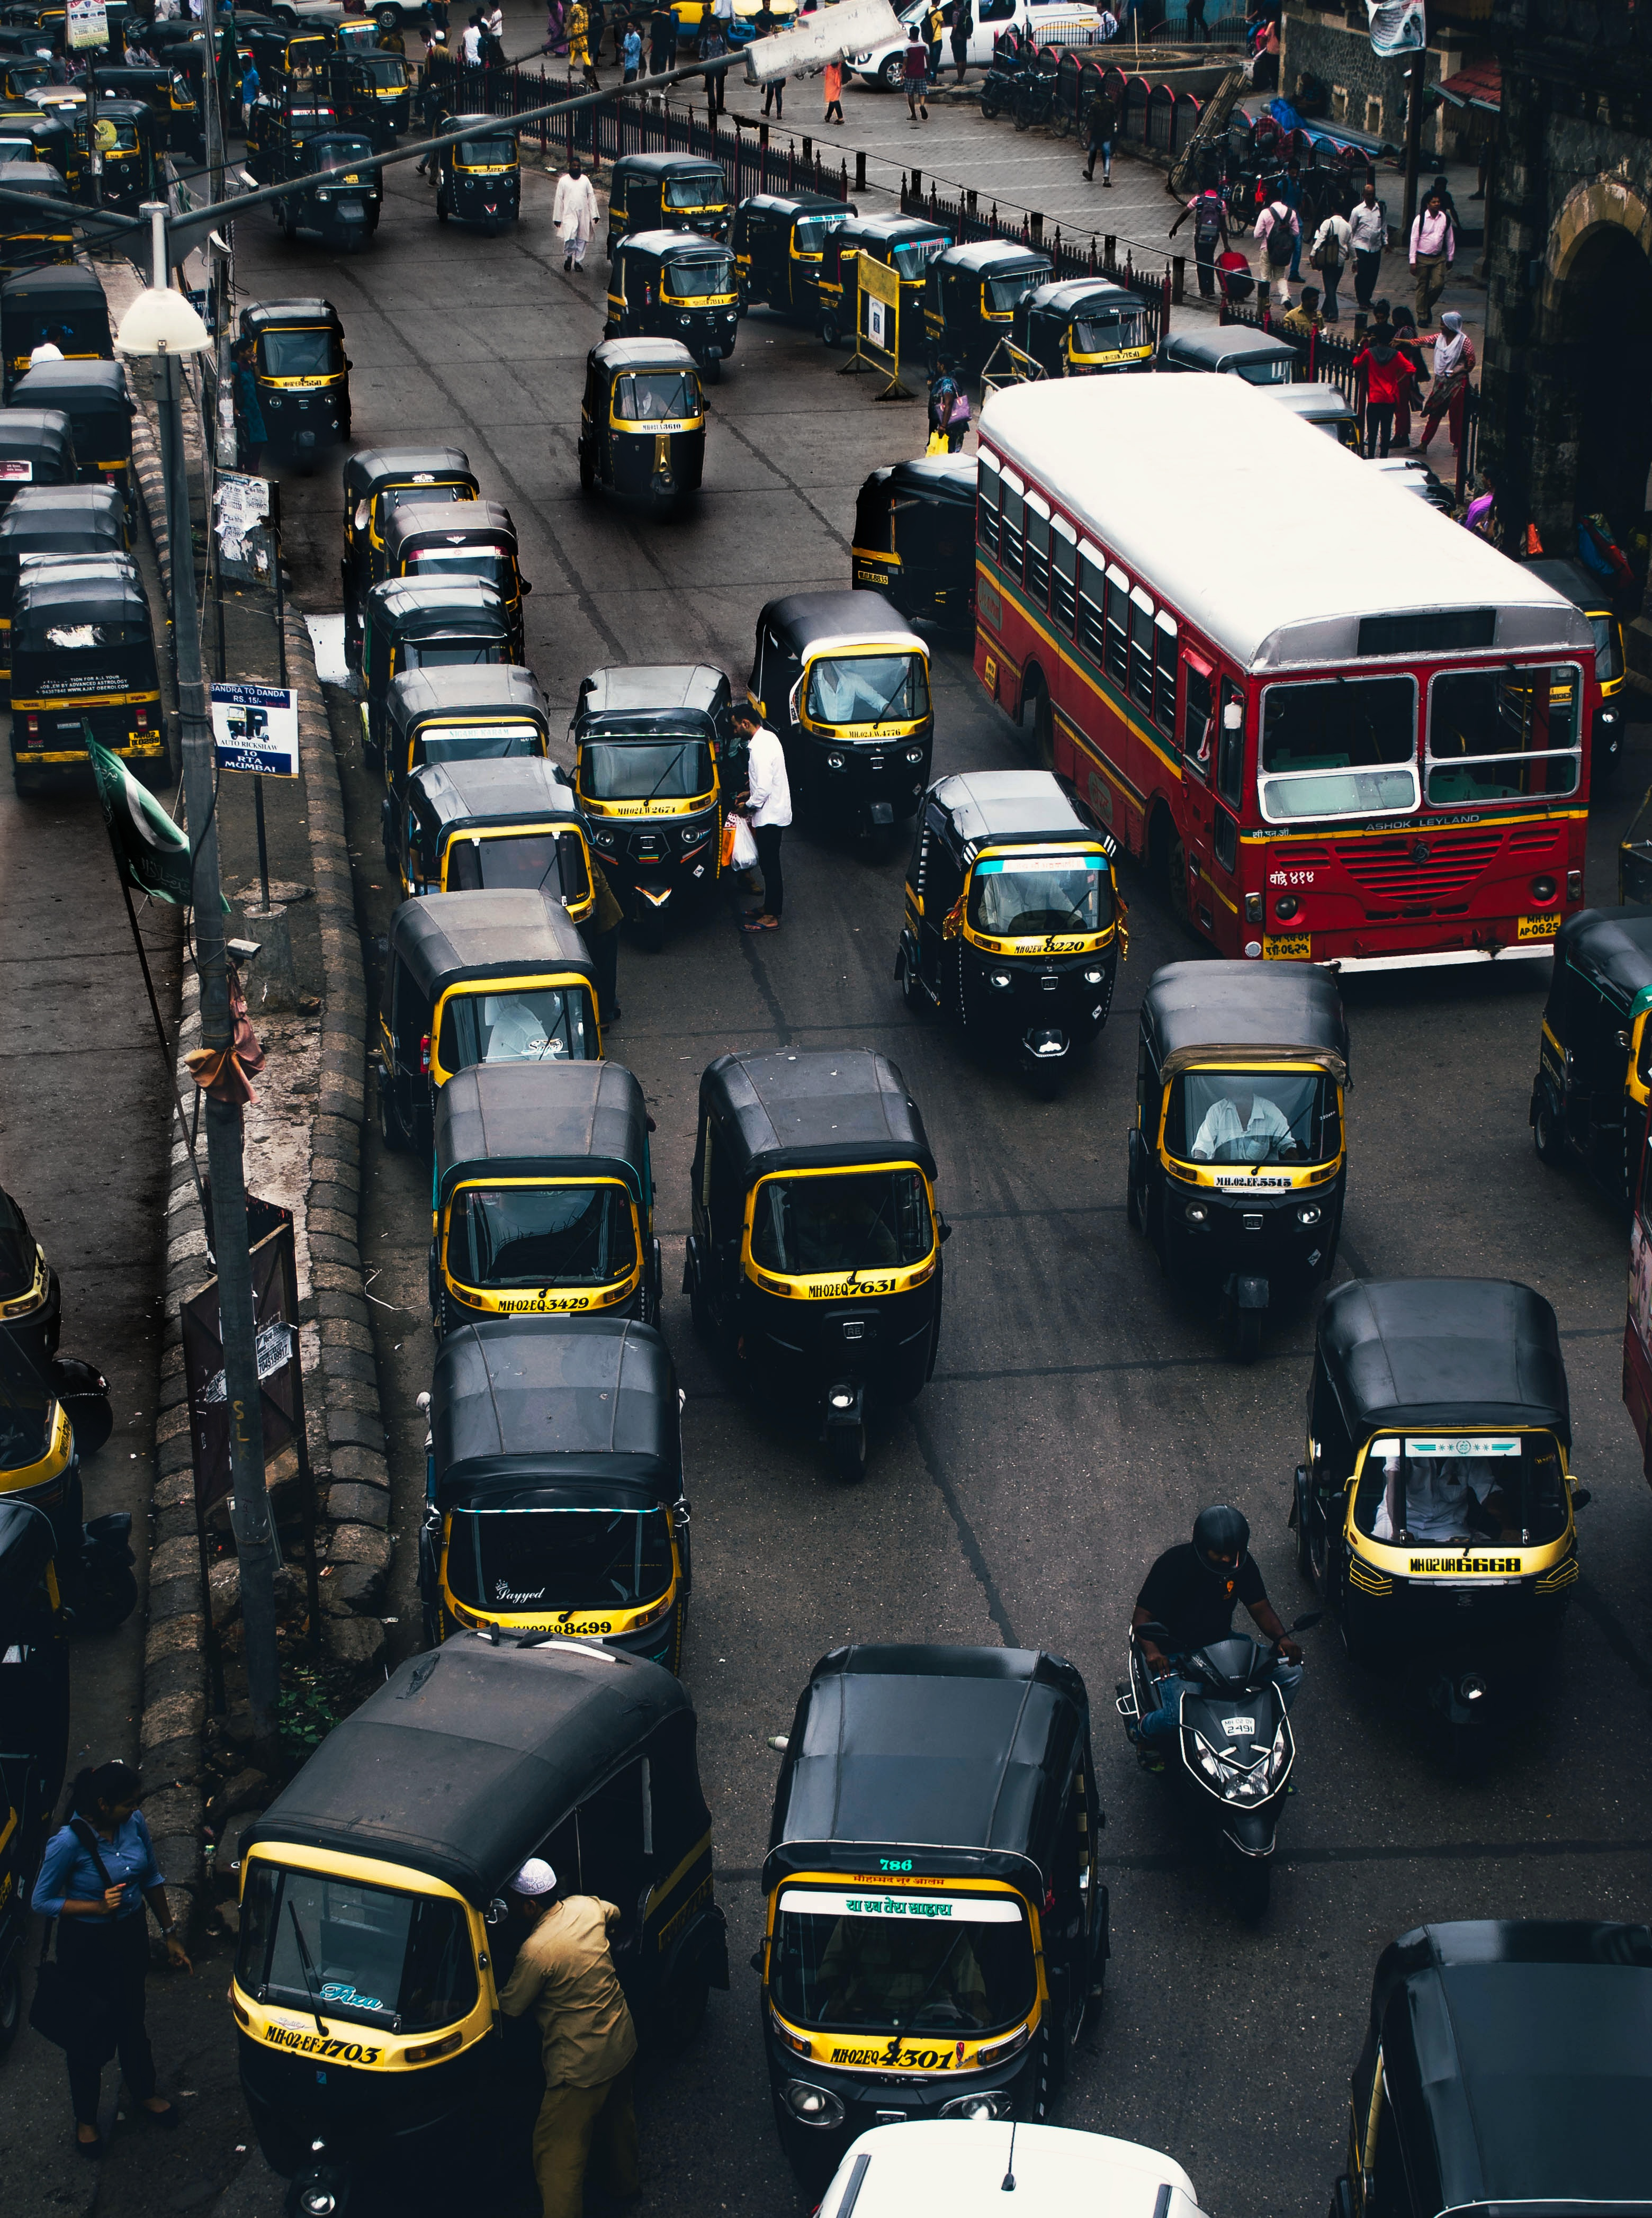bike: (1091, 1506, 1334, 1921)
bus: (947, 359, 1607, 977)
rickshaw: (233, 1644, 711, 2213), (731, 1626, 1137, 2112), (1263, 1274, 1595, 1777), (687, 1031, 973, 1484), (387, 1321, 737, 1633), (1301, 1913, 1652, 2218), (1114, 937, 1378, 1333), (880, 760, 1123, 1111), (389, 1047, 675, 1307), (373, 890, 666, 1092), (560, 654, 767, 909), (731, 576, 961, 786), (14, 562, 187, 791), (382, 757, 607, 925), (1525, 899, 1652, 1173), (574, 340, 729, 528), (828, 453, 973, 599), (606, 219, 743, 370), (227, 285, 370, 420), (1019, 281, 1173, 390), (316, 444, 469, 548), (265, 135, 394, 252), (373, 576, 524, 672), (736, 170, 850, 290), (600, 139, 741, 234), (427, 115, 526, 234), (930, 233, 1046, 319)
